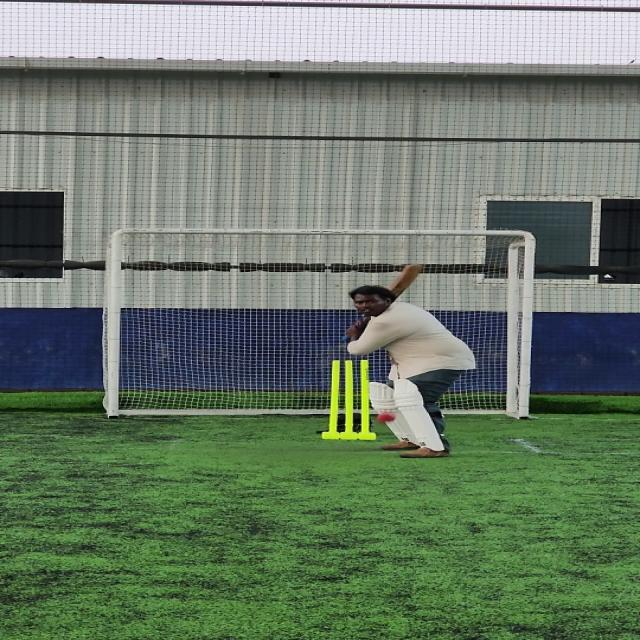ball: (377, 410, 399, 425)
stump: (324, 357, 374, 443)
